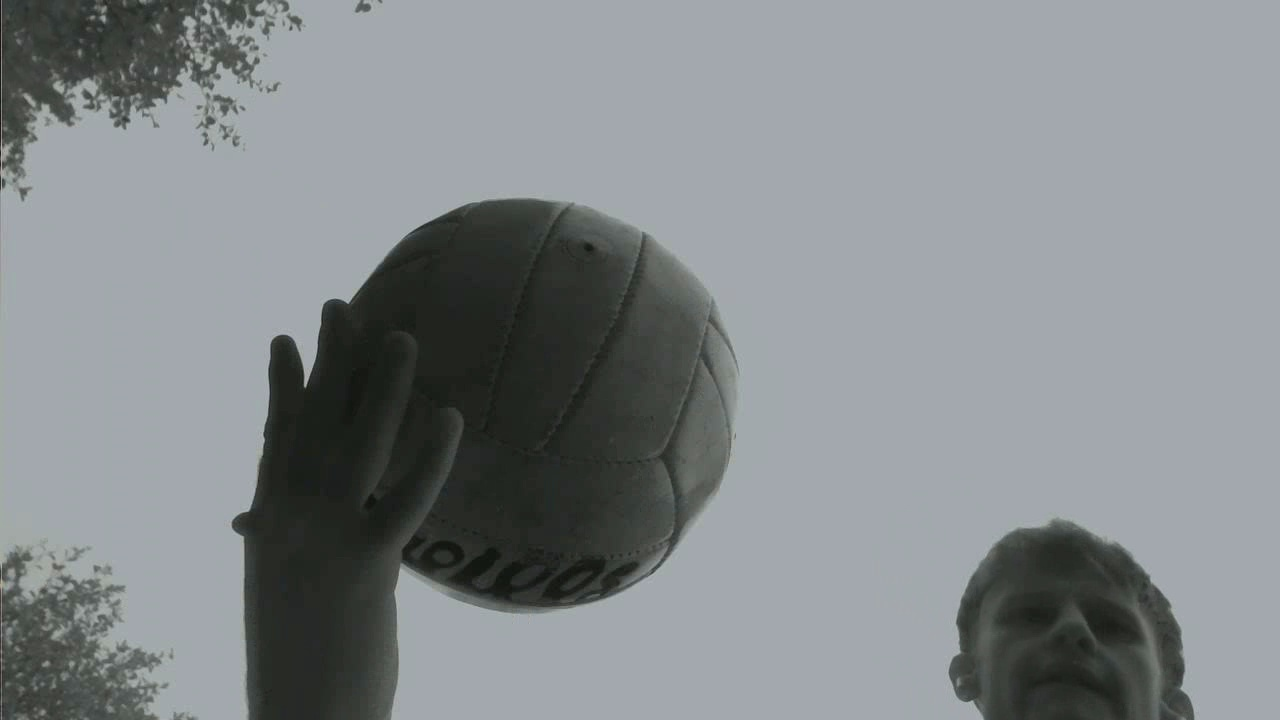Football-Spotter: (352, 199, 737, 609)
